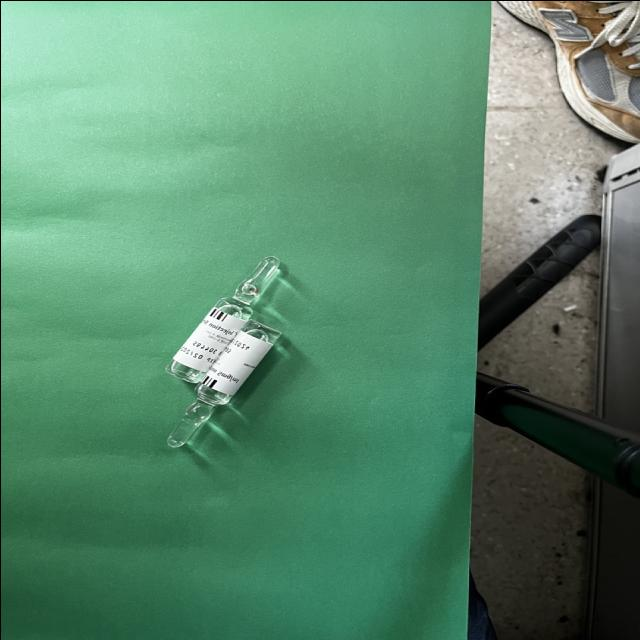Ampoules: (166, 318, 281, 448), (163, 255, 279, 382)
